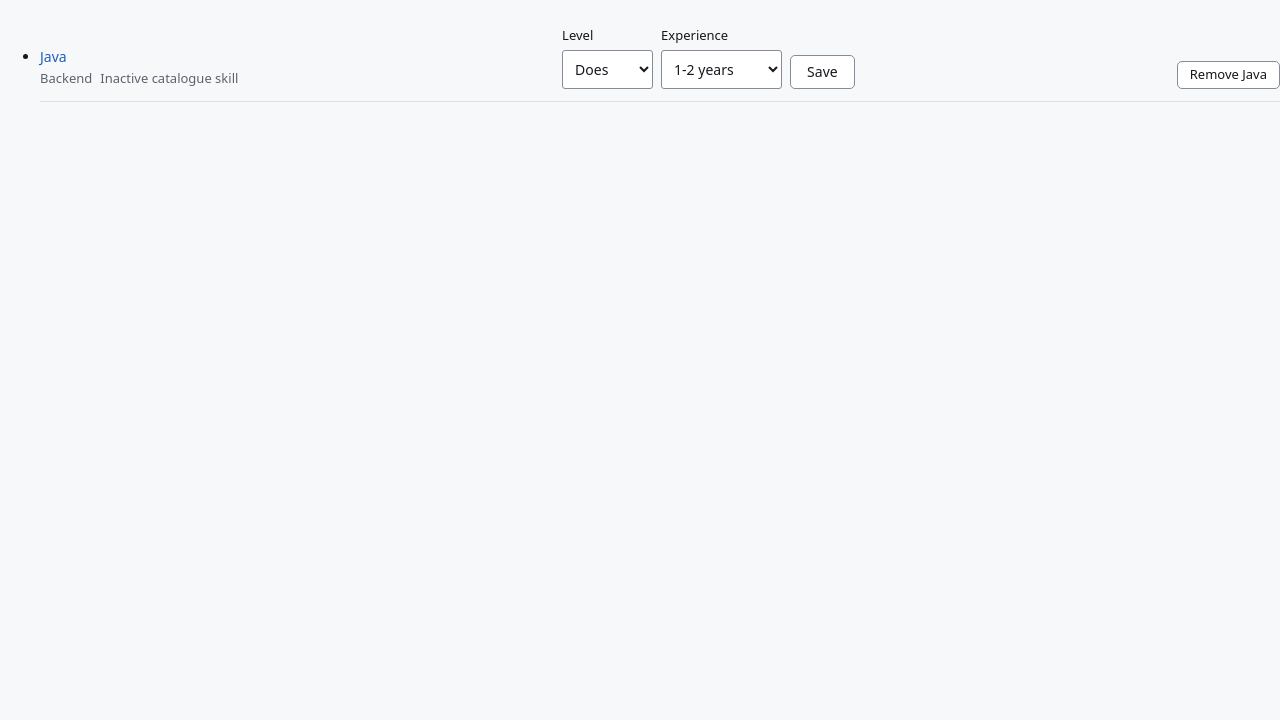
my skills › does not claim an inactive skill is currently used for matching
Click the button "Remove Java" at {"x": 1228, "y": 74}, box top-left (1177, 60), bottom-right (1279, 88)
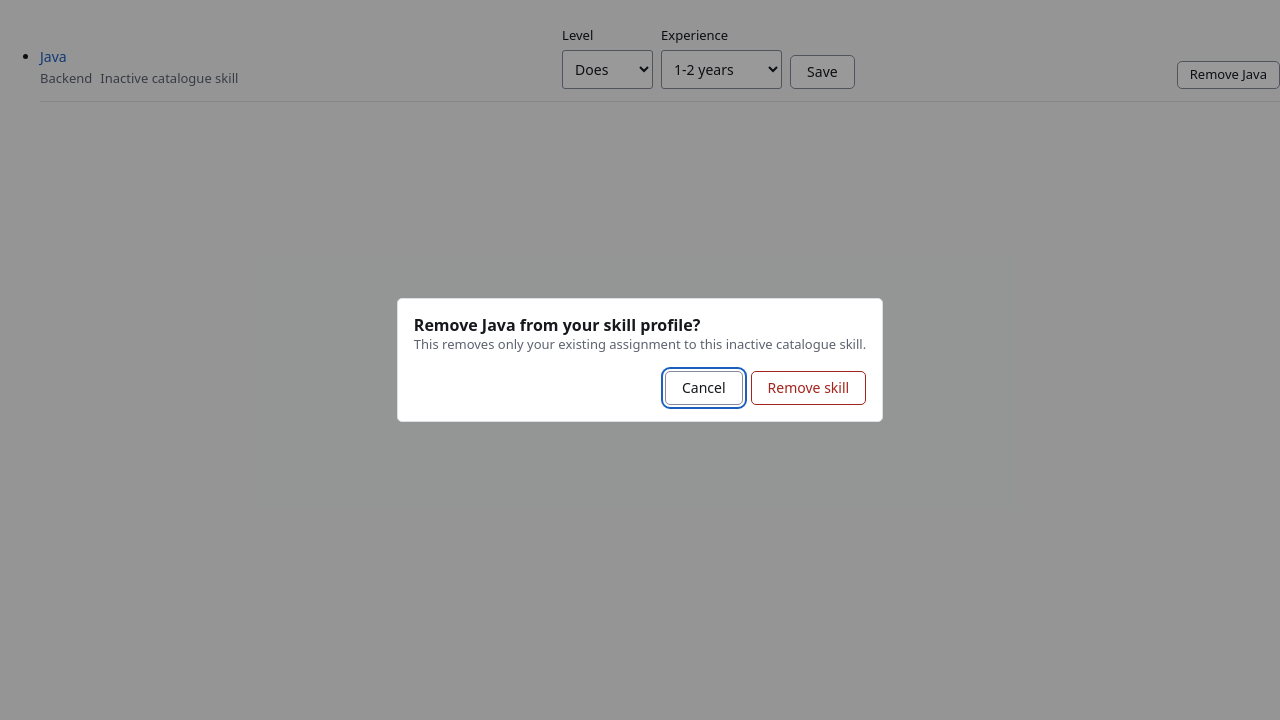
Check: the text "inactive catalogue skill" is shown, box top-left (414, 335), bottom-right (866, 353)
